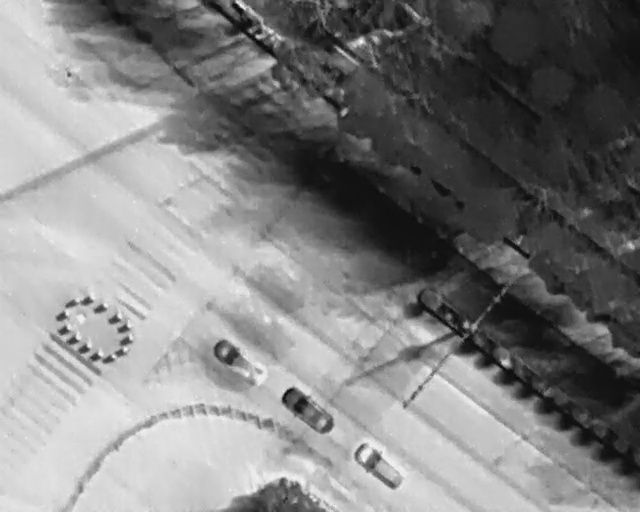Car: (209, 335, 272, 388), (275, 385, 338, 438), (352, 442, 407, 491)
